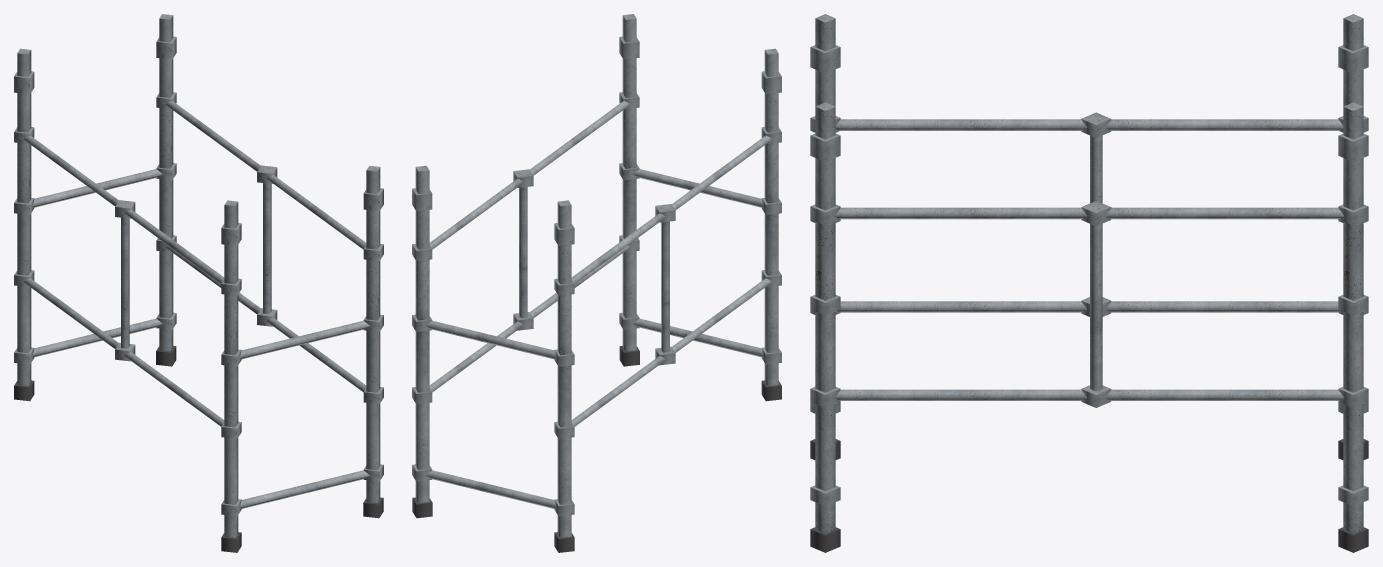
Rendered from Ob_ScafFloorSupport_RC.fbx.
3 renders of one model, left to right at view 1: azimuth 30°, elevation 25°; view 2: azimuth 150°, elevation 25°; view 3: azimuth 270°, elevation 25°, orthographic. The views are drawn at different scales.
Visible parts, largest first — view 1: Ob_ScafFloorSupport_RC; view 2: Ob_ScafFloorSupport_RC; view 3: Ob_ScafFloorSupport_RC.
Boxes of the visible parts, x1=… form: Ob_ScafFloorSupport_RC: x1=14, y1=14, x2=383, y2=552; Ob_ScafFloorSupport_RC: x1=412, y1=14, x2=781, y2=552; Ob_ScafFloorSupport_RC: x1=810, y1=14, x2=1368, y2=552.
Bounding box in the file's own units: 249 × 505 × 581.
